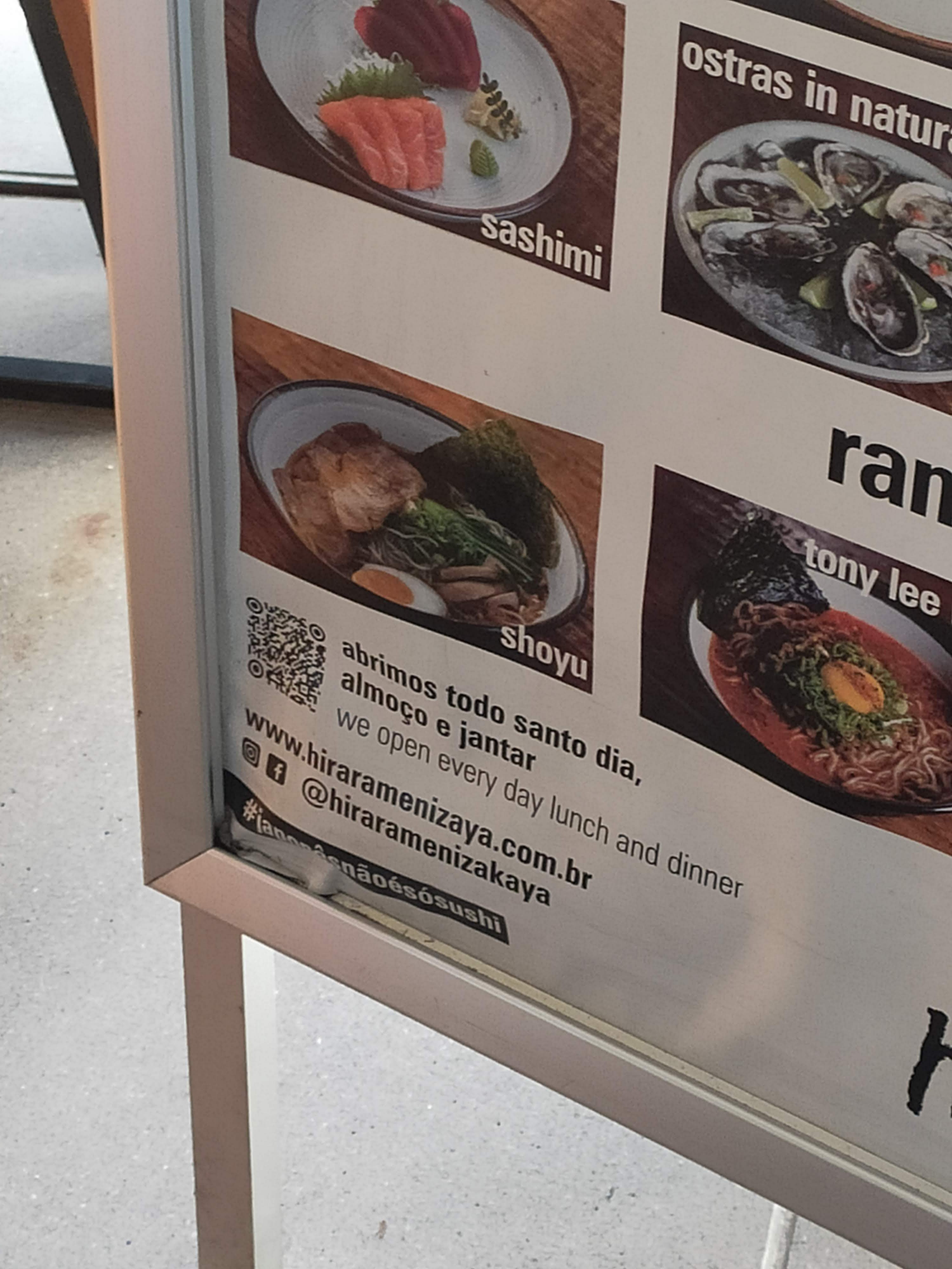QR-CODE: (245, 597, 326, 713)
